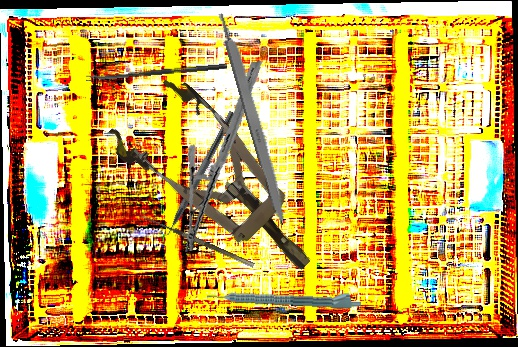Chopper: (153, 106, 236, 247)
Handpiece: (206, 283, 362, 311)
Hook Surgical: (134, 211, 255, 274)
Needle Holder: (155, 60, 290, 253)
Scalpel Handle: (216, 10, 292, 227)
Speculum: (101, 67, 340, 303)
Surgical Spoon: (86, 62, 227, 82)
